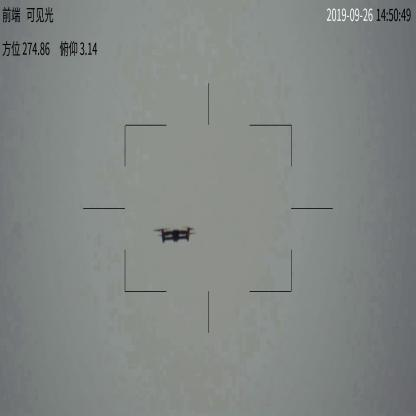uav: (153, 222, 197, 247)
